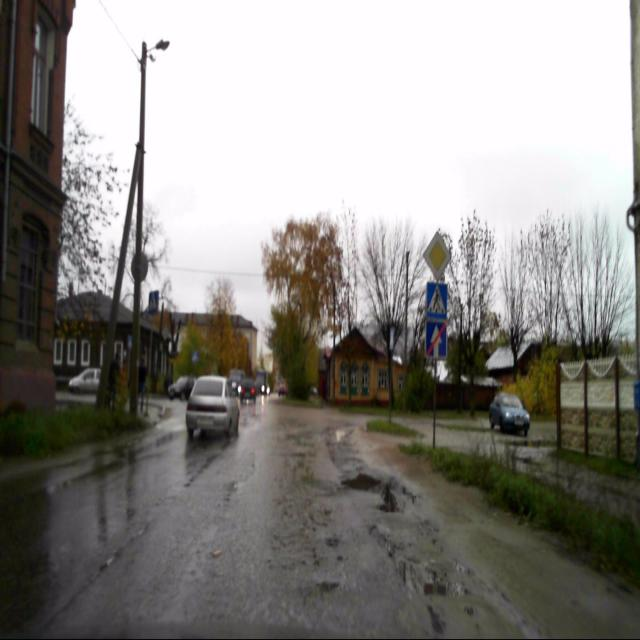road sign: (422, 231, 450, 281), (425, 321, 446, 358), (426, 284, 448, 318), (148, 290, 159, 315)
